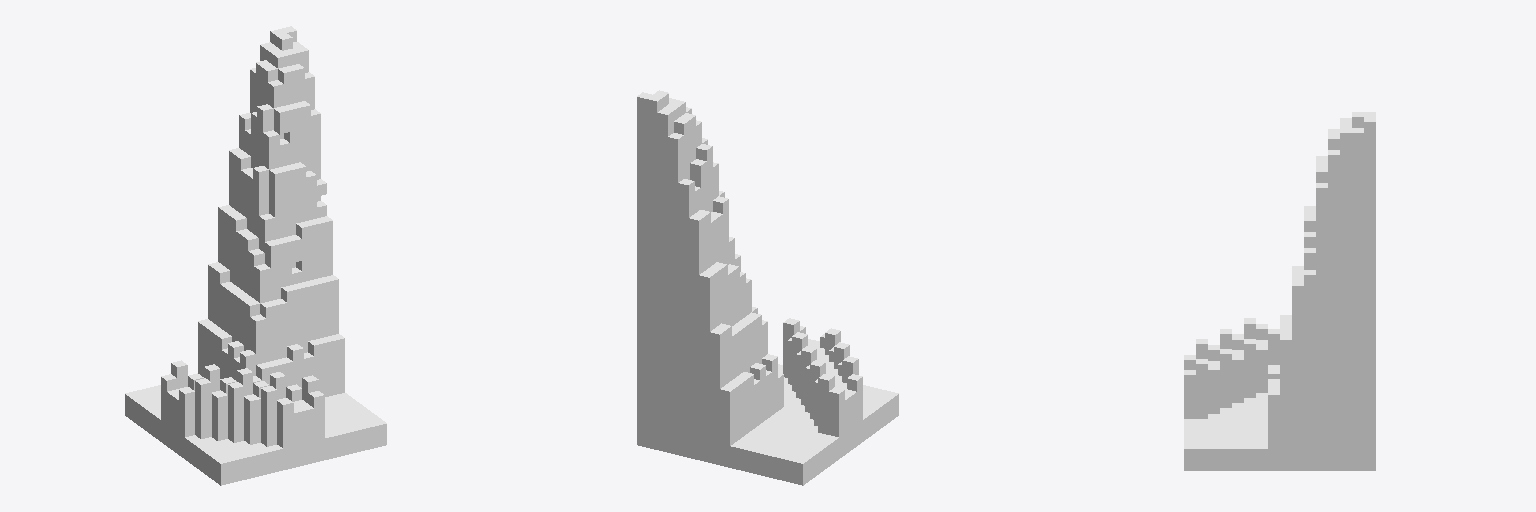
File: Mountain_castle_1.obj
3 views of the same model, side by side, from view 1: azimuth 30°, elevation 25°; view 2: azimuth 150°, elevation 25°; view 3: azimuth 270°, elevation 25° (orthographic).
Parts seen in each view (by area): view 1: object 1; view 2: object 1; view 3: object 1.
Part boxes in pixels (x1,y1,x2,y2): object 1: (125,26,386,485); object 1: (637,90,898,485); object 1: (1184,112,1375,470).
Size of the model in its own units: 1.6 by 3.2 by 1.6.